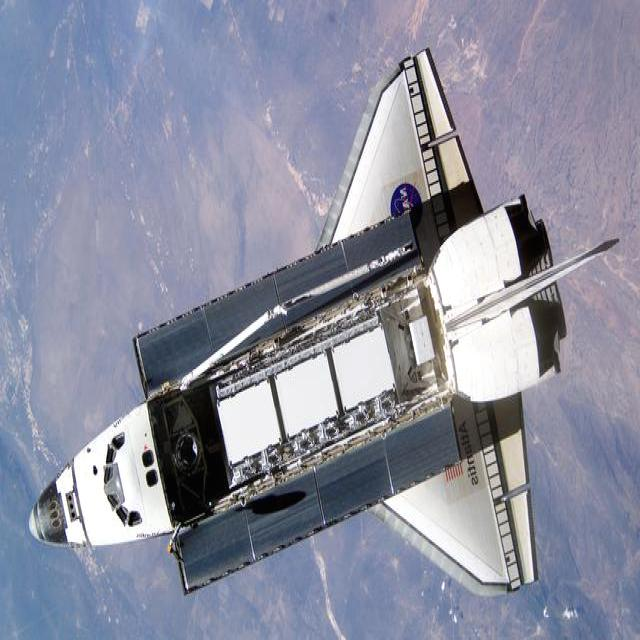medium_debris: (30, 50, 616, 591)
